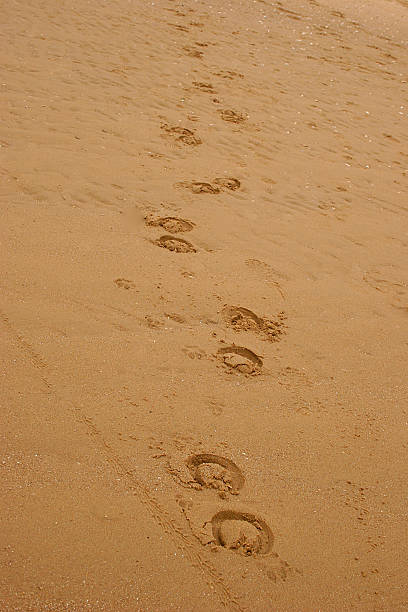animal_foot_print: (160, 437, 244, 500), (211, 509, 273, 555), (186, 453, 244, 497), (222, 305, 285, 341), (363, 264, 407, 310), (217, 345, 262, 375), (175, 177, 240, 193), (145, 214, 194, 233), (161, 123, 201, 145), (153, 235, 196, 252), (175, 181, 220, 193), (219, 109, 246, 123), (213, 177, 240, 190), (192, 81, 215, 93), (182, 346, 205, 358), (213, 70, 243, 79), (183, 46, 203, 58), (114, 278, 135, 289)
